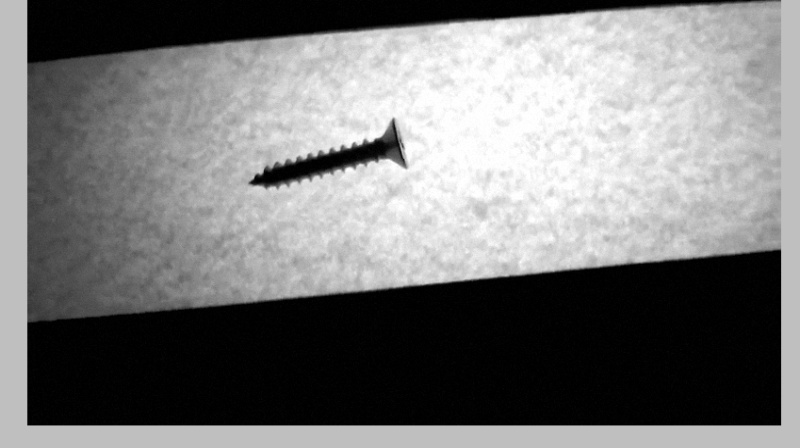S001: (243, 115, 410, 197)
